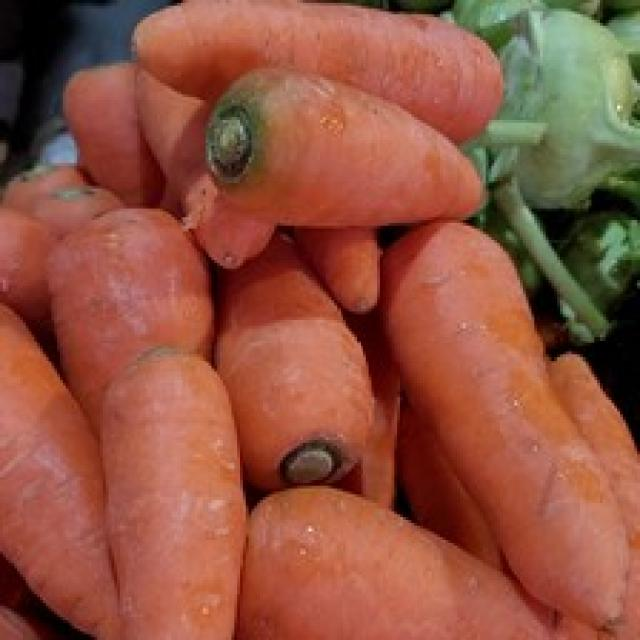Fresh_Carrot: (376, 216, 625, 640), (212, 68, 491, 239), (126, 17, 504, 134), (106, 357, 259, 640)
